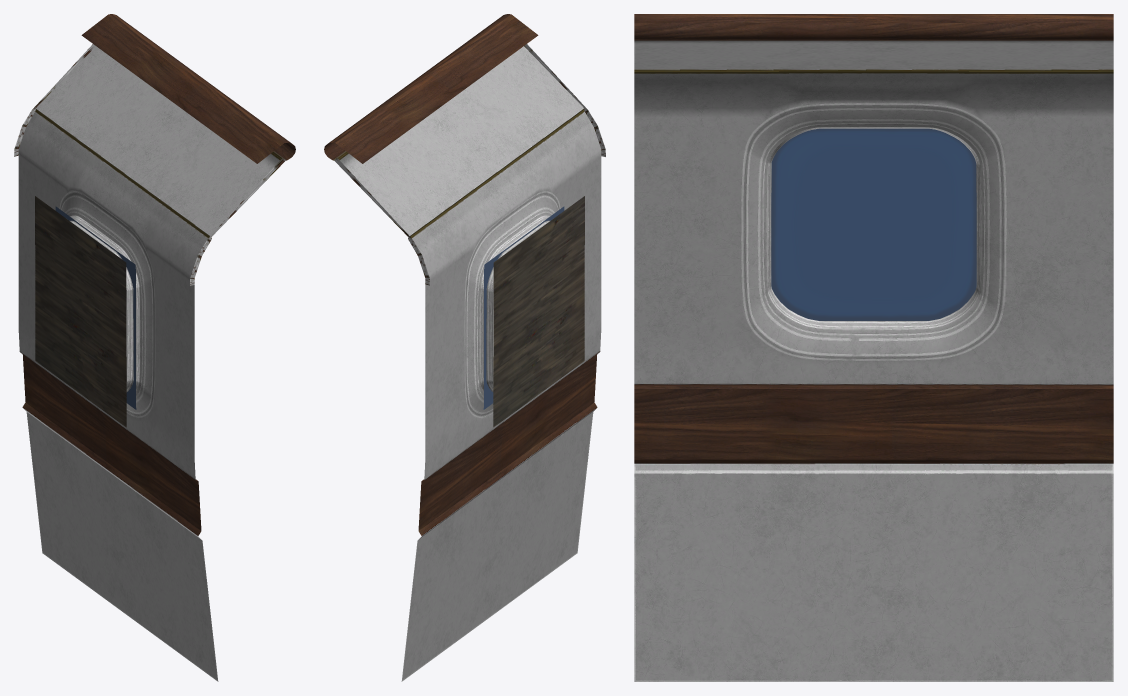
File: plane_interior_wall_dust.dae
3 views of the same model, side by side, from view 1: azimuth 30°, elevation 25°; view 2: azimuth 150°, elevation 25°; view 3: azimuth 270°, elevation 25° (orthographic). The views are drawn at different scales.
Visible parts, largest first — view 1: plane_interior_wall, interior_wall_window_dust, interior_wall_window; view 2: plane_interior_wall, interior_wall_window_dust, interior_wall_window; view 3: plane_interior_wall, interior_wall_window.
Boxes of the visible parts, x1,y1,x2,y2 form: plane_interior_wall: (14, 14, 295, 681); interior_wall_window_dust: (35, 196, 126, 427); interior_wall_window: (55, 206, 136, 409); plane_interior_wall: (324, 14, 605, 681); interior_wall_window_dust: (493, 196, 584, 427); interior_wall_window: (483, 206, 564, 409); plane_interior_wall: (634, 14, 1113, 681); interior_wall_window: (771, 128, 976, 320).
Size of the model in its own units: 41.77 by 164 by 100.
